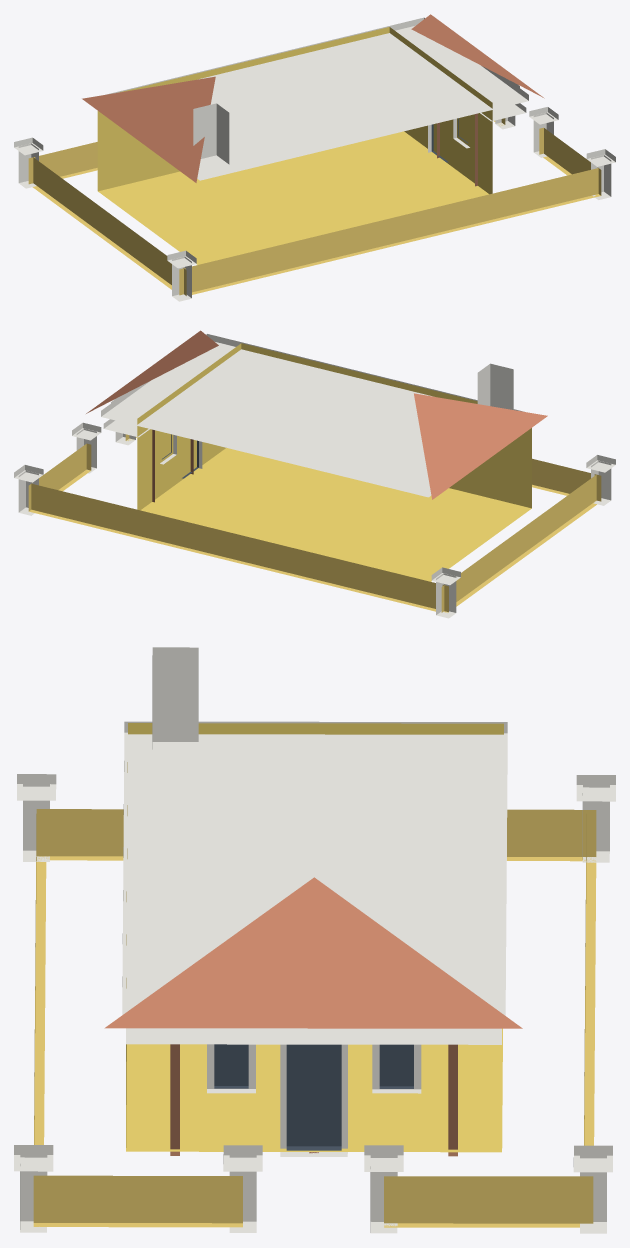
Rendered from cunucu_paradera.glb.
3 renders of one model, top to bottom at view 1: azimuth 30°, elevation 25°; view 2: azimuth 150°, elevation 25°; view 3: azimuth 270°, elevation 25°, orthographic. The views are drawn at different scales.
Parts seen in each view (by area): view 1: cunucu_paradera_lod0; view 2: cunucu_paradera_lod0; view 3: cunucu_paradera_lod0.
Part boxes in pixels (x1,y1,x2,y2): cunucu_paradera_lod0: (14,14,615,301); cunucu_paradera_lod0: (14,330,615,618); cunucu_paradera_lod0: (14,647,615,1233).
Size of what is drawn, in the model's own units: 14.99 by 4.65 by 9.83.
